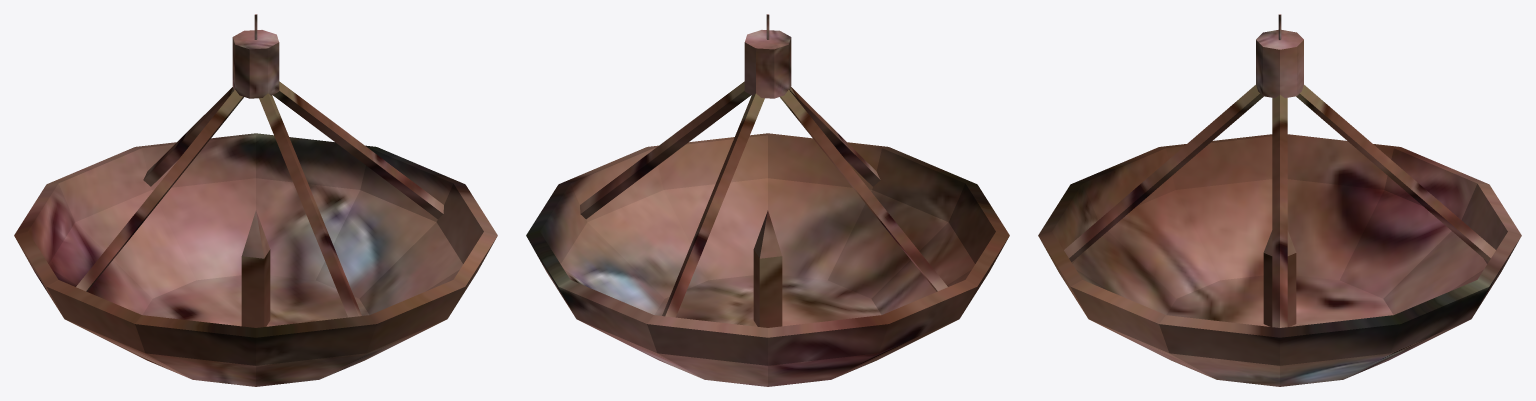
Rendered from katyou_antenna.obj.
The picture shows the model from 3 angles, left to right: view 1: azimuth 30°, elevation 25°; view 2: azimuth 150°, elevation 25°; view 3: azimuth 270°, elevation 25°; orthographic projection.
Visible parts, largest first — view 1: Cylinder.001, Cylinder.005_Cylinder.004, Cylinder.006_Cylinder.004, Cylinder.004, Cylinder.008_Cylinder.005, Cylinder.003, Cylinder.007_Cylinder.004; view 2: Cylinder.001, Cylinder.007_Cylinder.004, Cylinder.006_Cylinder.004, Cylinder.004, Cylinder.008_Cylinder.005, Cylinder.003, Cylinder.005_Cylinder.004; view 3: Cylinder.001, Cylinder.005_Cylinder.004, Cylinder.007_Cylinder.004, Cylinder.006_Cylinder.004, Cylinder.008_Cylinder.005, Cylinder.003.
Part boxes in pixels (left/top/right/bottom): Cylinder.001: left=14, top=133, right=497, bottom=386; Cylinder.005_Cylinder.004: left=259, top=93, right=361, bottom=317; Cylinder.006_Cylinder.004: left=273, top=81, right=443, bottom=219; Cylinder.004: left=76, top=90, right=243, bottom=291; Cylinder.008_Cylinder.005: left=232, top=30, right=279, bottom=98; Cylinder.003: left=241, top=210, right=270, bottom=327; Cylinder.007_Cylinder.004: left=143, top=87, right=233, bottom=186; Cylinder.001: left=526, top=133, right=1009, bottom=386; Cylinder.007_Cylinder.004: left=662, top=93, right=764, bottom=317; Cylinder.006_Cylinder.004: left=580, top=81, right=750, bottom=219; Cylinder.004: left=780, top=90, right=947, bottom=291; Cylinder.008_Cylinder.005: left=744, top=30, right=791, bottom=98; Cylinder.003: left=753, top=210, right=782, bottom=327; Cylinder.005_Cylinder.004: left=790, top=87, right=880, bottom=186; Cylinder.001: left=1038, top=134, right=1521, bottom=386; Cylinder.005_Cylinder.004: left=1064, top=85, right=1263, bottom=262; Cylinder.007_Cylinder.004: left=1296, top=85, right=1495, bottom=262; Cylinder.006_Cylinder.004: left=1272, top=95, right=1287, bottom=327; Cylinder.008_Cylinder.005: left=1256, top=30, right=1303, bottom=98; Cylinder.003: left=1263, top=230, right=1296, bottom=326.
Bounding box in the file's own units: 3.82 × 3.1 × 3.82.
